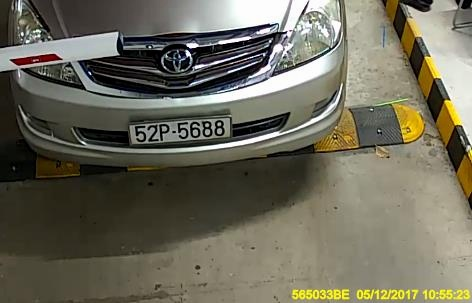plate: (125, 112, 237, 147)
